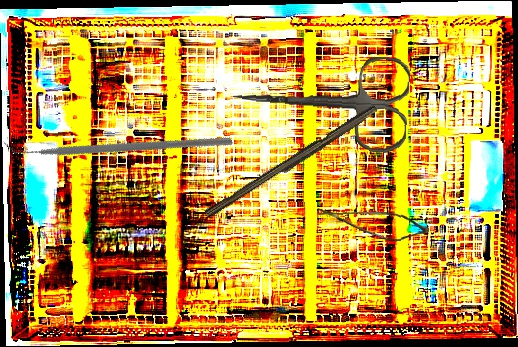Chopper: (0, 29, 234, 252)
Iris Scissors: (229, 47, 412, 154)
Micro Scissor: (314, 206, 430, 242)
Scalpel Handle: (204, 101, 380, 224)
